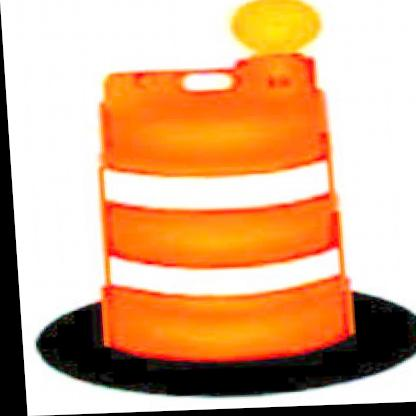obstacle: (91, 50, 367, 356)
